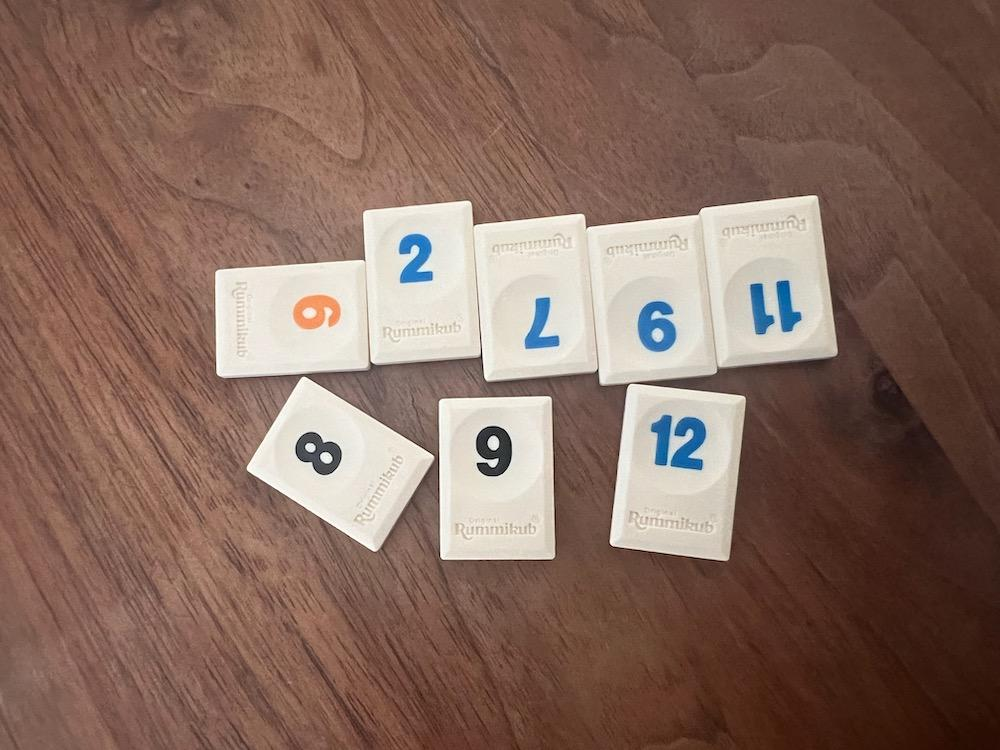black_8: (248, 377, 434, 551)
black_9: (440, 396, 555, 559)
blue_11: (701, 195, 838, 367)
blue_12: (611, 385, 744, 561)
blue_2: (363, 202, 480, 365)
blue_7: (475, 216, 598, 381)
blue_9: (588, 216, 716, 385)
orange_6: (215, 260, 369, 377)
